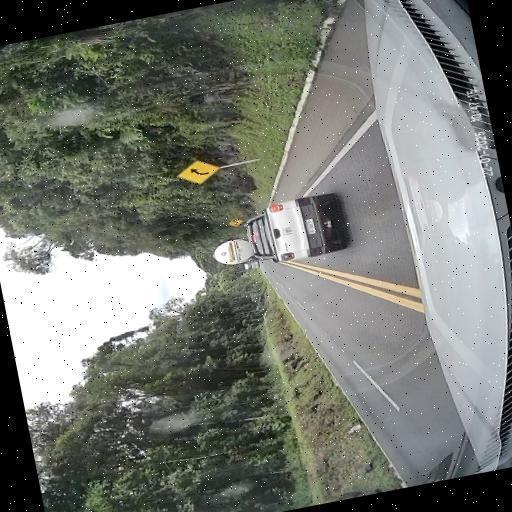A-27: (228, 216, 244, 228)
A-2b: (174, 156, 222, 188)
